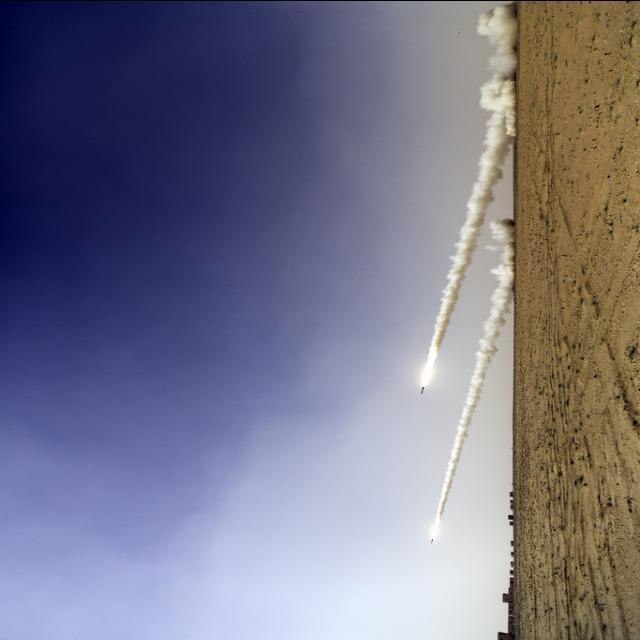missile: (420, 386, 426, 396), (430, 536, 433, 546)
